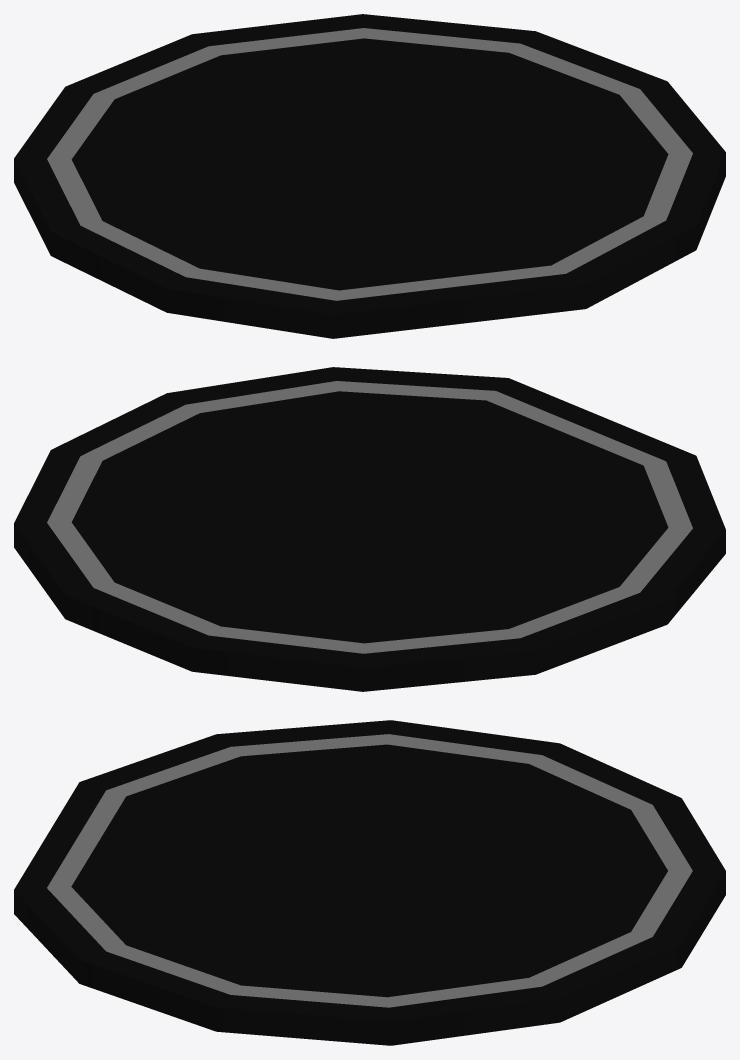
Rendered from Manhole_White.glb.
3 renders of one model, top to bottom at view 1: azimuth 30°, elevation 25°; view 2: azimuth 150°, elevation 25°; view 3: azimuth 270°, elevation 25°, orthographic.
Visible parts, largest first — view 1: Emissive; view 2: Emissive; view 3: Emissive.
Boxes of the visible parts, box(x1,y1,x2,y2) form: Emissive: box(14, 14, 725, 338); Emissive: box(14, 367, 725, 691); Emissive: box(14, 720, 725, 1045).
Size of what is drawn, in the model's own units: 1.8 by 0.0673 by 1.79.
1 material, 1 textured.
